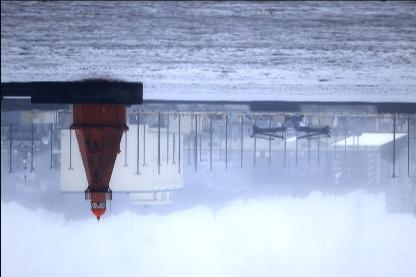Tornado: (249, 114, 331, 139)
